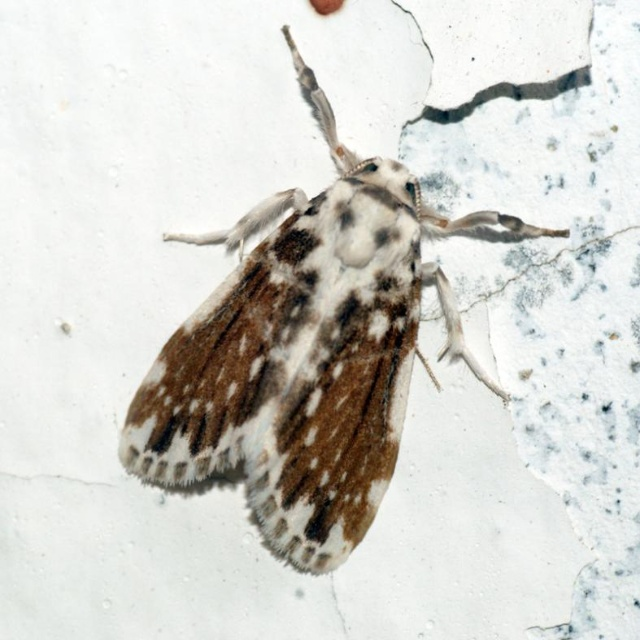Moths and butterflies: (111, 24, 574, 578)
